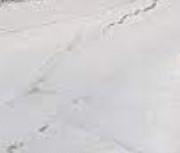crack: (99, 0, 157, 37)
